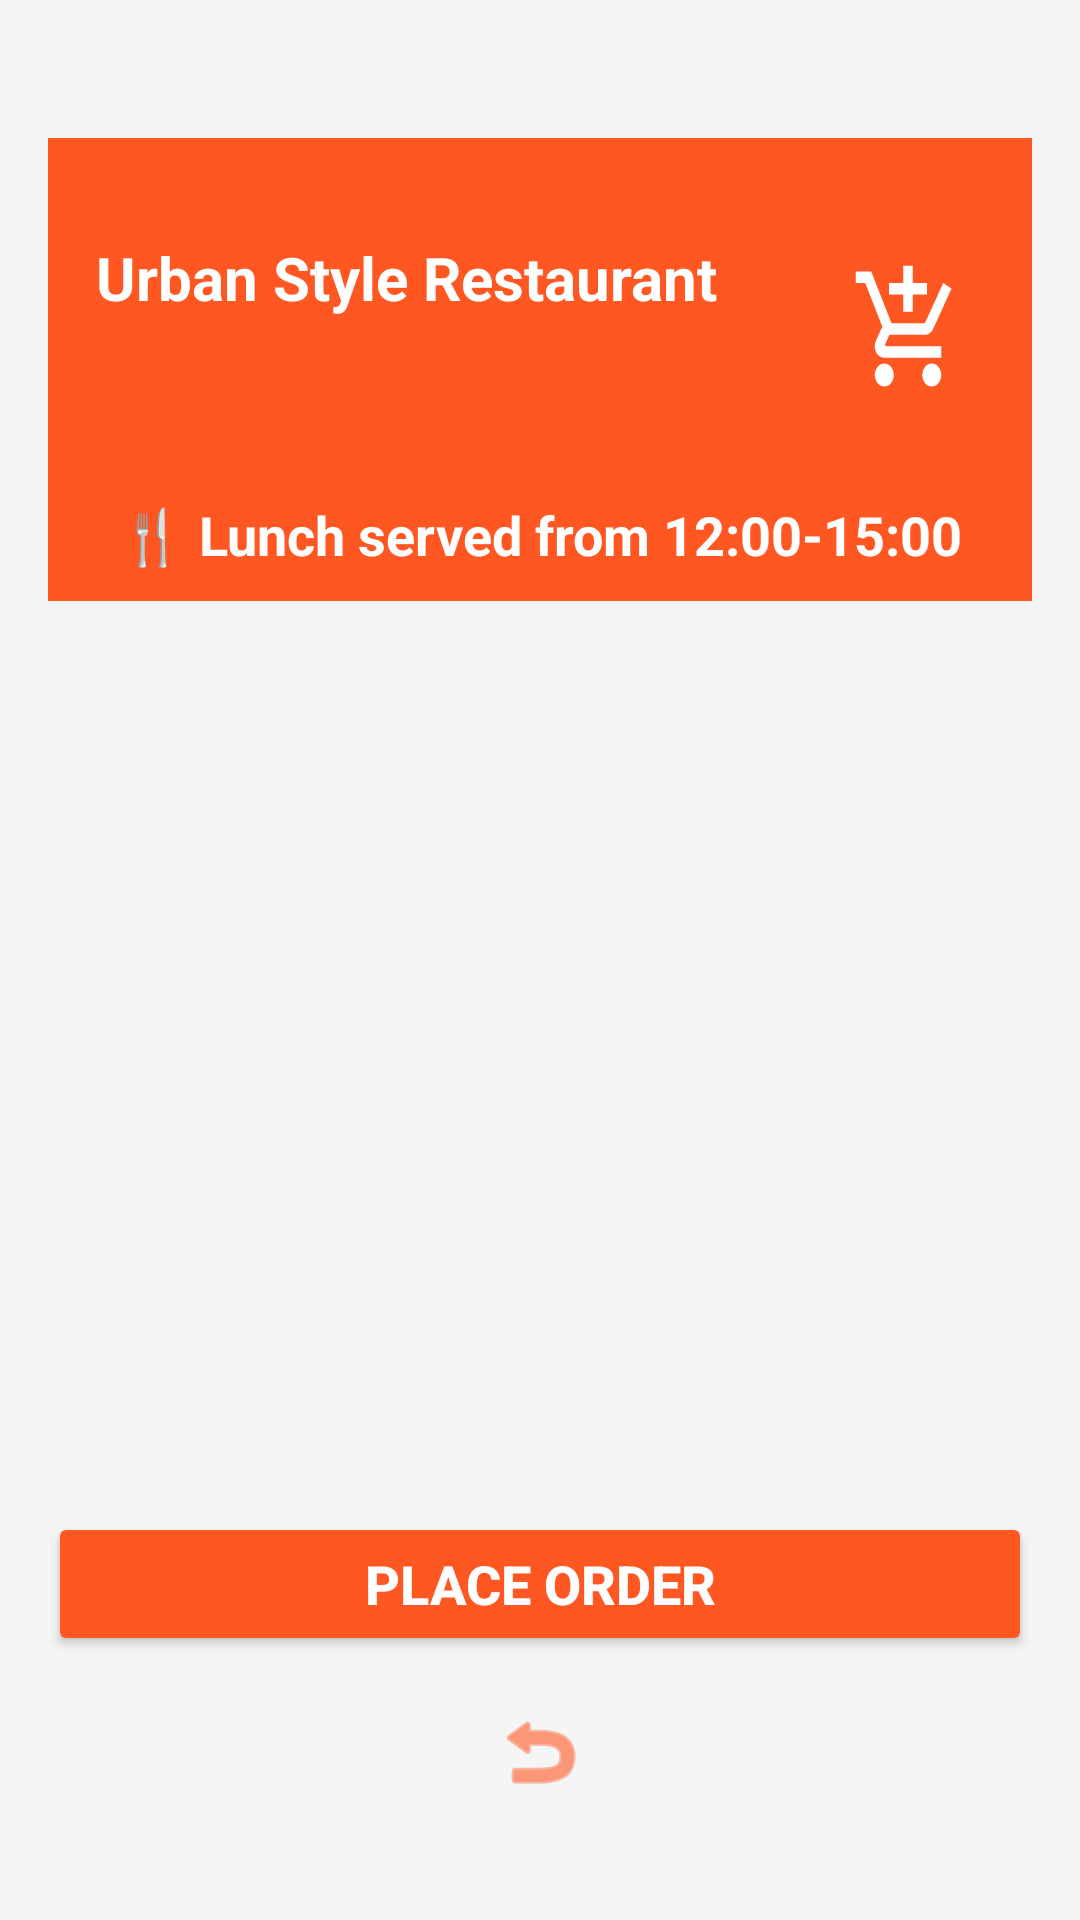

Icon click points for this 1080x1920 phone screenshot, format [x,y]:
revert: [541,1752]
shopping cart: [903,326]
